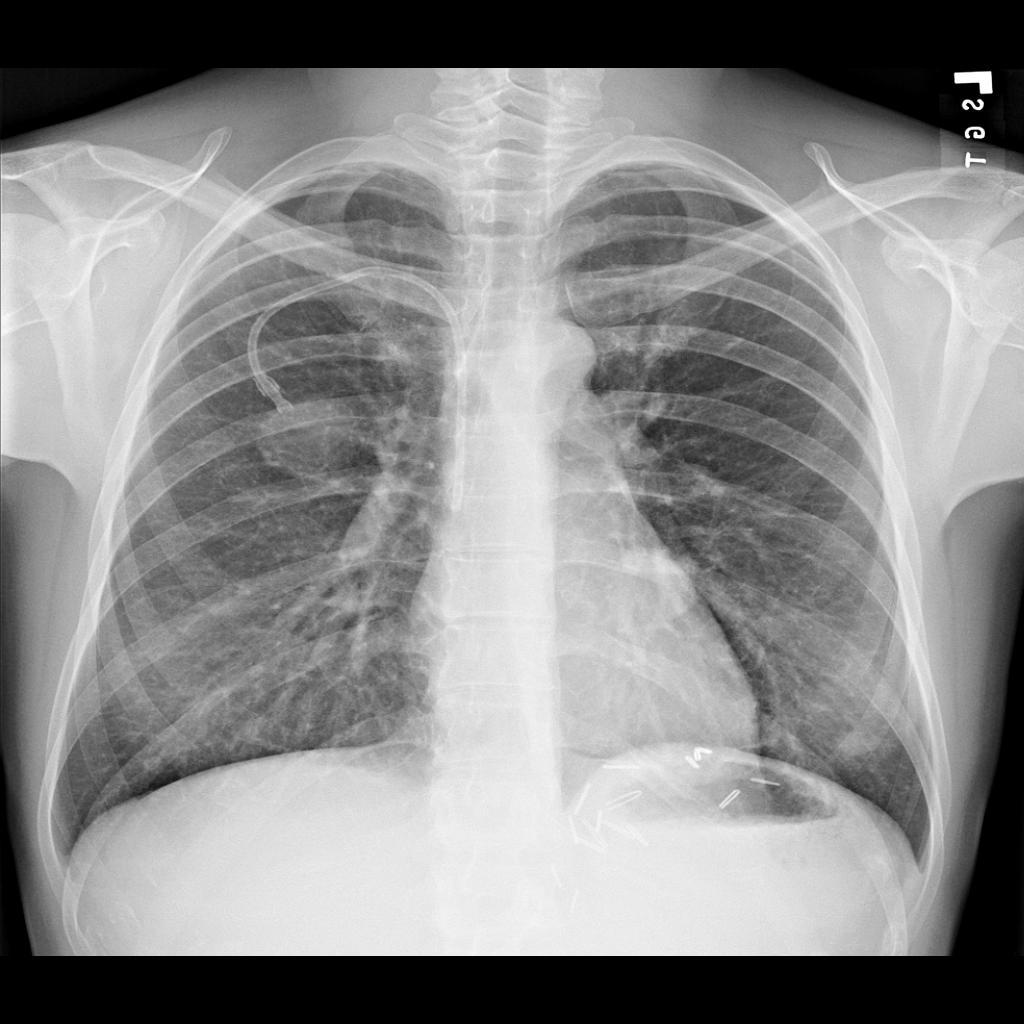Nodule: (608, 542, 705, 634)
